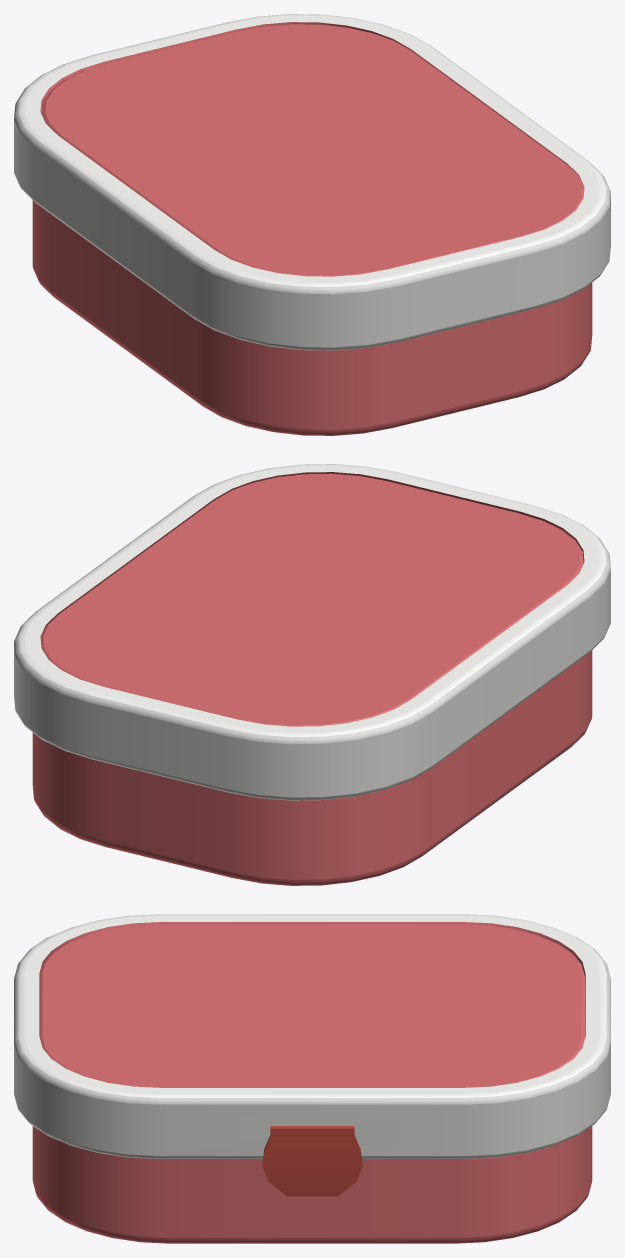
Rendered from lunch box pivort.fbx.
The picture shows the model from 3 angles, top to bottom: view 1: azimuth 30°, elevation 25°; view 2: azimuth 150°, elevation 25°; view 3: azimuth 270°, elevation 25°; orthographic projection. The views are drawn at different scales.
Visible parts, largest first — view 1: Cube.001, Cube; view 2: Cube.001, Cube; view 3: Cube.001, Cube.
Part boxes in pixels (x1=…): Cube.001: x1=14, y1=14, x2=610, y2=350; Cube: x1=32, y1=200, x2=592, y2=435; Cube.001: x1=14, y1=464, x2=610, y2=800; Cube: x1=32, y1=650, x2=592, y2=885; Cube.001: x1=14, y1=914, x2=610, y2=1196; Cube: x1=32, y1=1126, x2=592, y2=1243.
Size of the model in its own units: 150 by 56.93 by 199.
